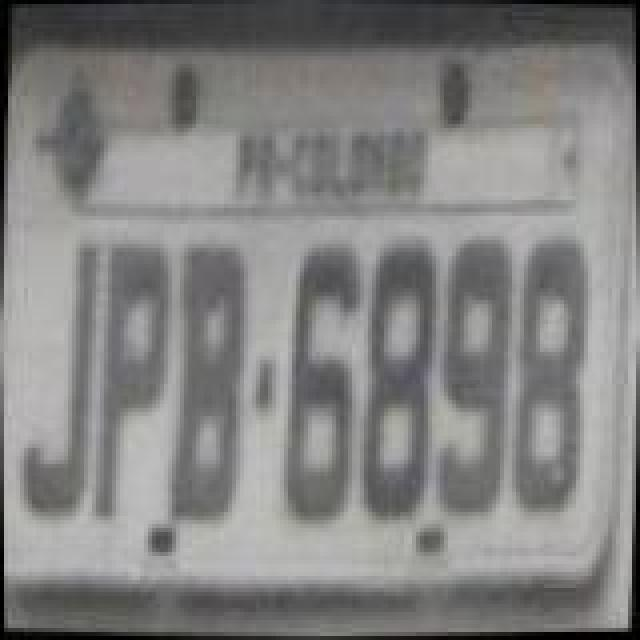6: (274, 236, 370, 528)
8: (350, 234, 446, 526), (498, 232, 594, 520)
9: (426, 236, 522, 524)
B: (164, 240, 256, 528)
J: (18, 238, 106, 522)
P: (88, 240, 180, 528)
